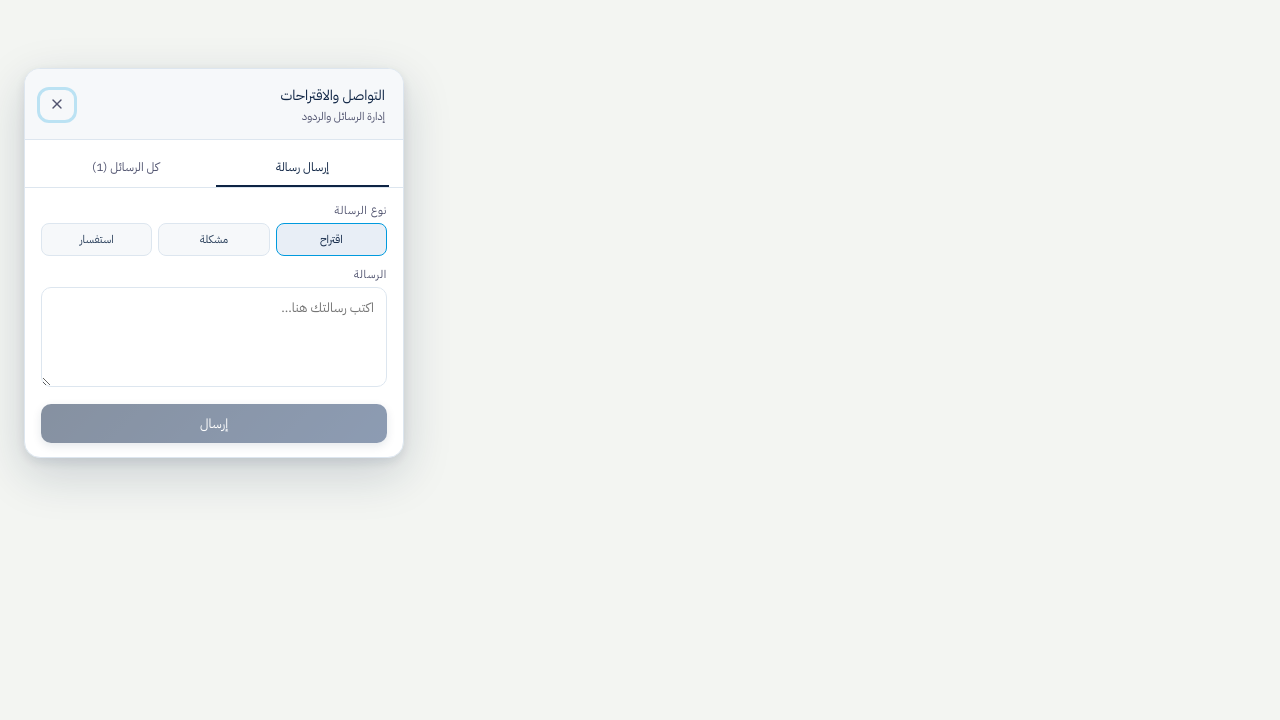
Test case: FeedbackWidget — admin export › does not read the workspace for the export until it is clicked
Click the button "كل الرسائل (1)" at (126, 168), box [39,150,212,187]
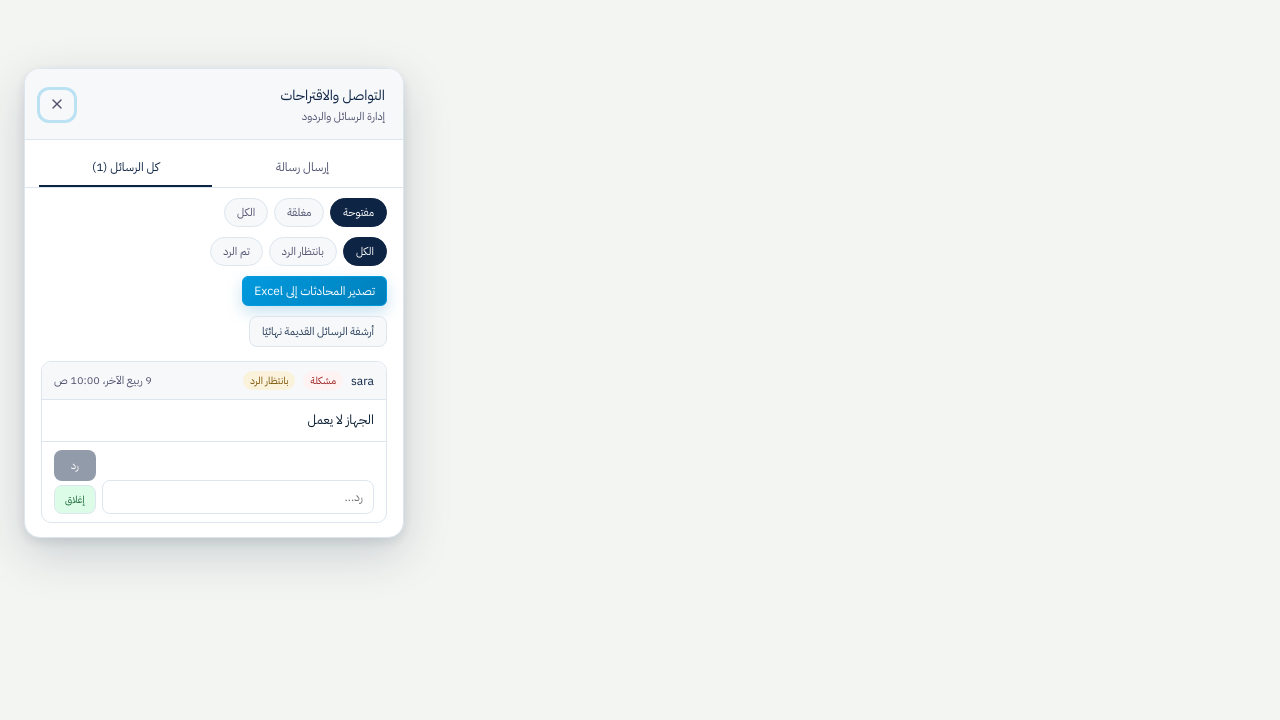
expect the text "الجهاز لا يعمل" is shown: met, box [308,410,374,429]
